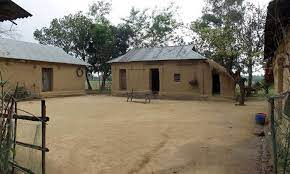Mud House: (105, 38, 243, 105), (3, 33, 86, 100)
